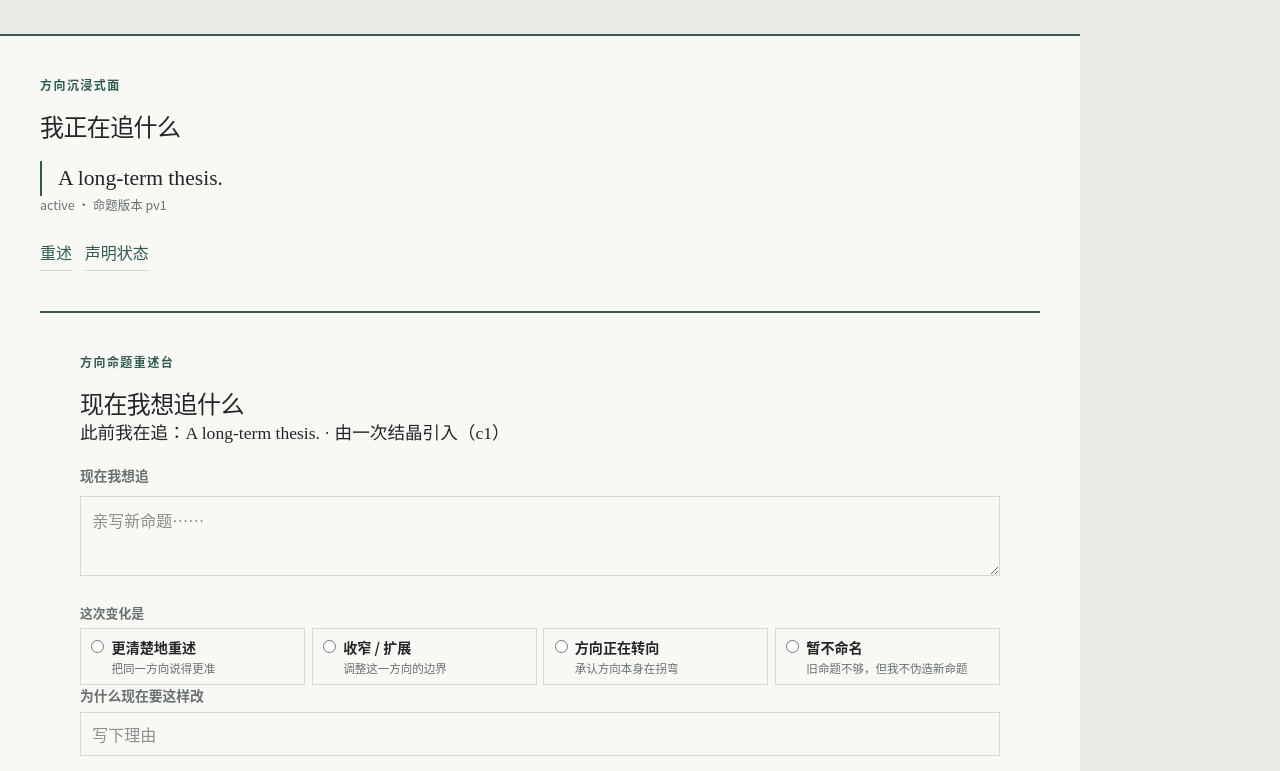
Test: DirectionViewport › rephrase desk preserves the prior proposition and unnamed explicitly clears it
Expected: the heading "现在我想追什么" is shown, x1=80 y1=385 x2=244 y2=420
Expected: the text "此前我在追：A long-term thesis. · 由一次结晶引入（c1）" is shown, x1=80 y1=423 x2=510 y2=443
Click the radio button labelled "暂不命名 旧命题不够，但我不伪造新命题".
click(793, 646)  # box x1=786 y1=640 x2=799 y2=653
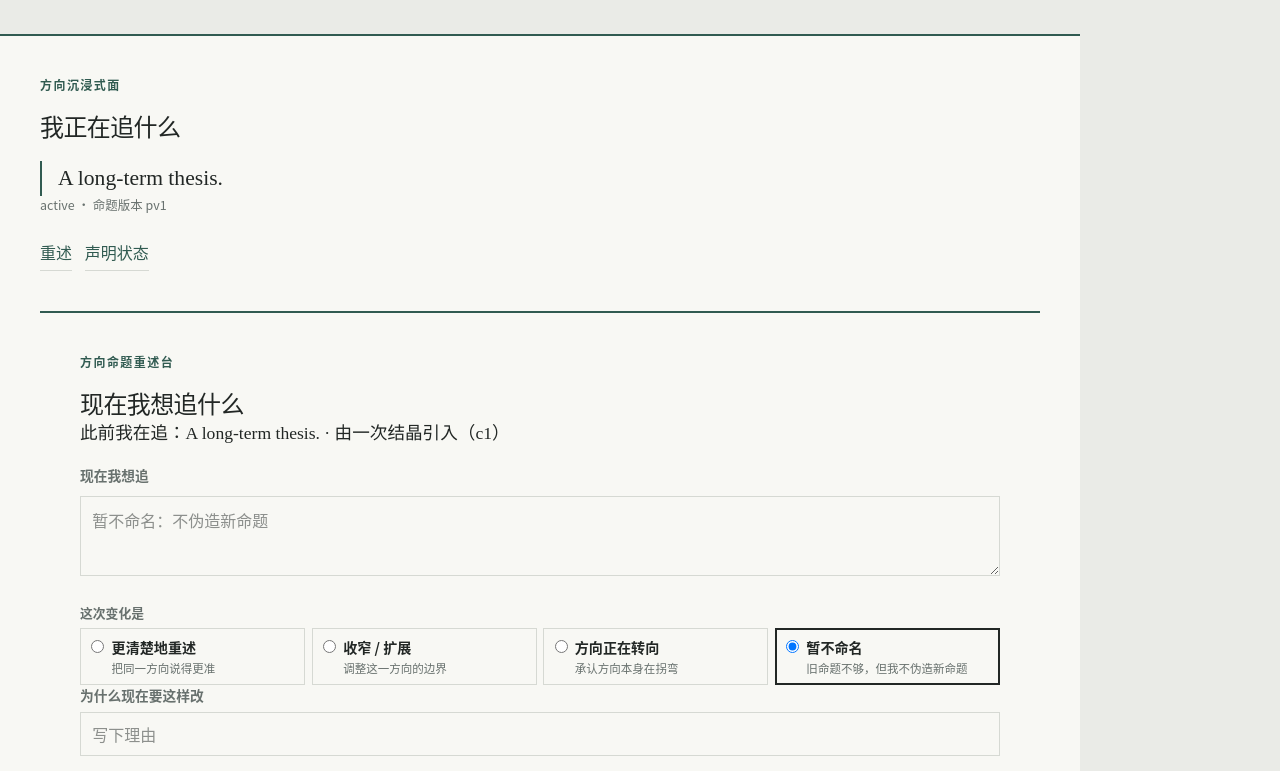
Expected: the text box labelled "现在我想追" is empty, x1=80 y1=496 x2=1000 y2=576
Now the text box labelled "现在我想追" is disabled, box x1=80 y1=496 x2=1000 y2=576
Type "old is insufficient" into the field labelled "为什么现在要这样改".
click(540, 734); type("old is insufficient")  # box x1=80 y1=712 x2=1000 y2=756
(page scrolled)
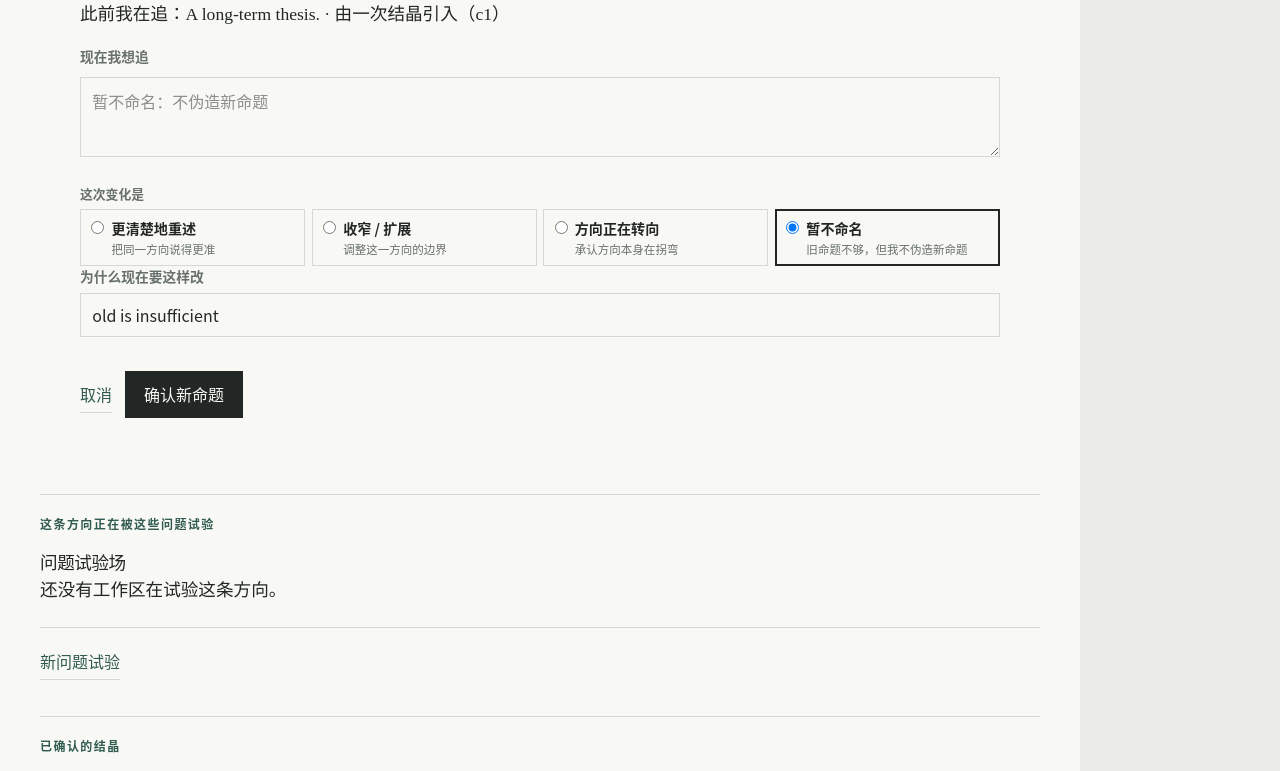
Click the button "确认新命题".
click(184, 394)  # box x1=125 y1=371 x2=243 y2=418
(page scrolled)
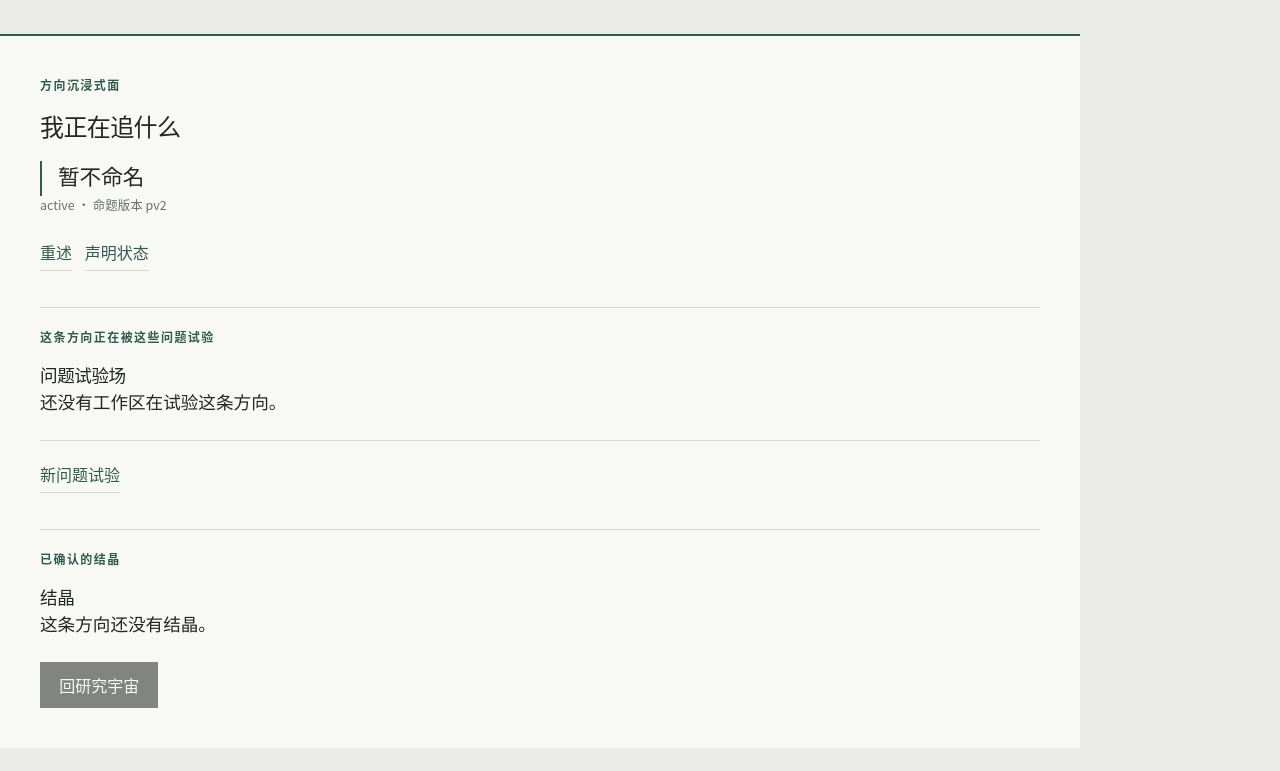
Now the text "暂不命名" is shown, box x1=40 y1=161 x2=1040 y2=196
